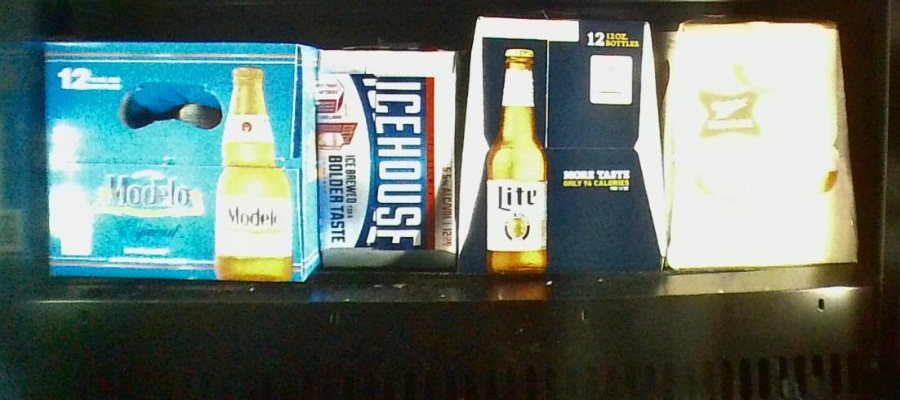bottle: (38, 43, 323, 279), (466, 12, 662, 265), (662, 16, 852, 266), (319, 44, 457, 273)
